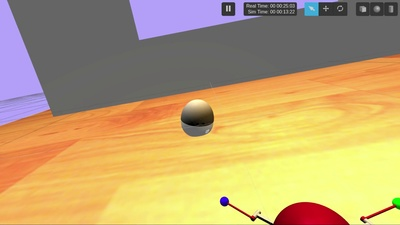mira_robot: (180, 99, 214, 136)
